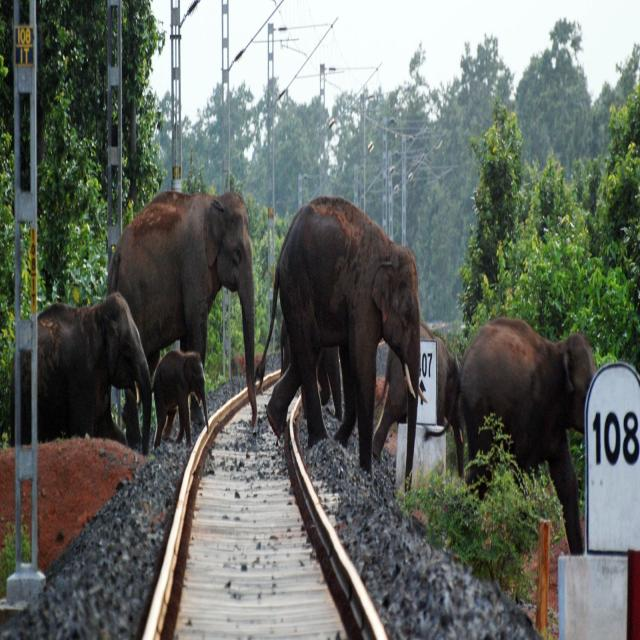Elephant: (276, 189, 422, 478), (122, 186, 268, 444), (459, 308, 598, 531), (16, 288, 148, 479), (386, 308, 459, 517), (153, 332, 208, 462)
